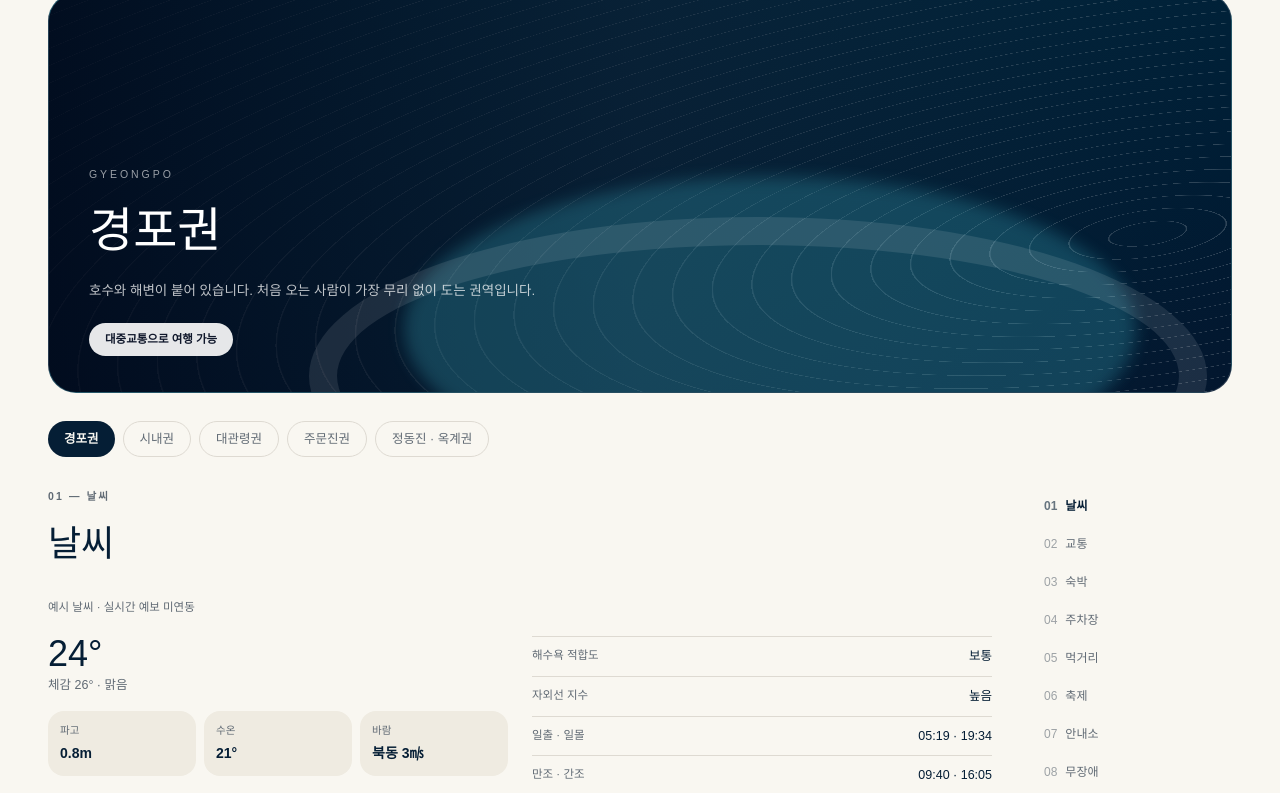
Scenario: ZoneGuide › 축제는 선택한 권역의 것만 보여준다
Step 1. Click the button "주문진권" → (327, 439), box x1=287 y1=421 x2=367 y2=457
(page scrolled)
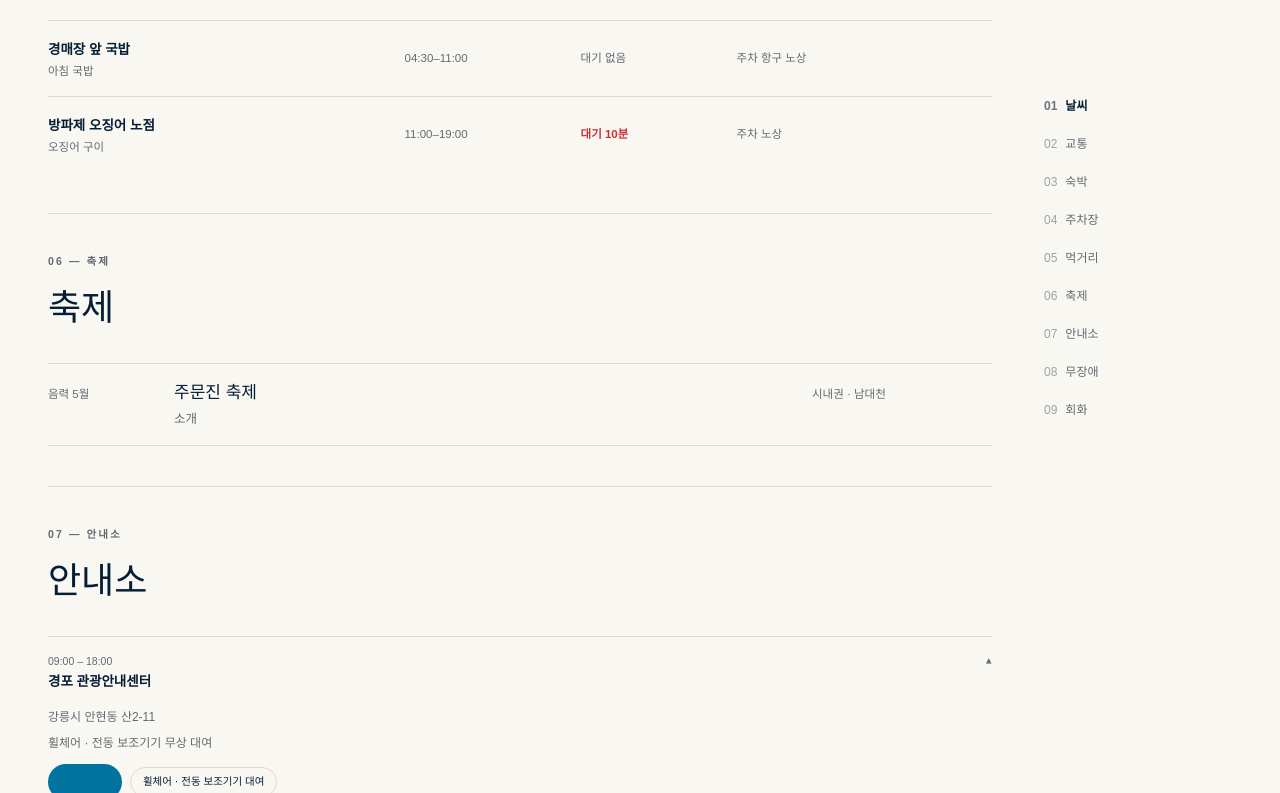
Expected: the text "주문진 축제" is shown, x1=174 y1=380 x2=257 y2=406
